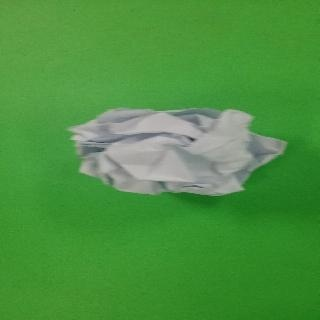8/可回收垃圾/纸: (65, 106, 287, 197)
